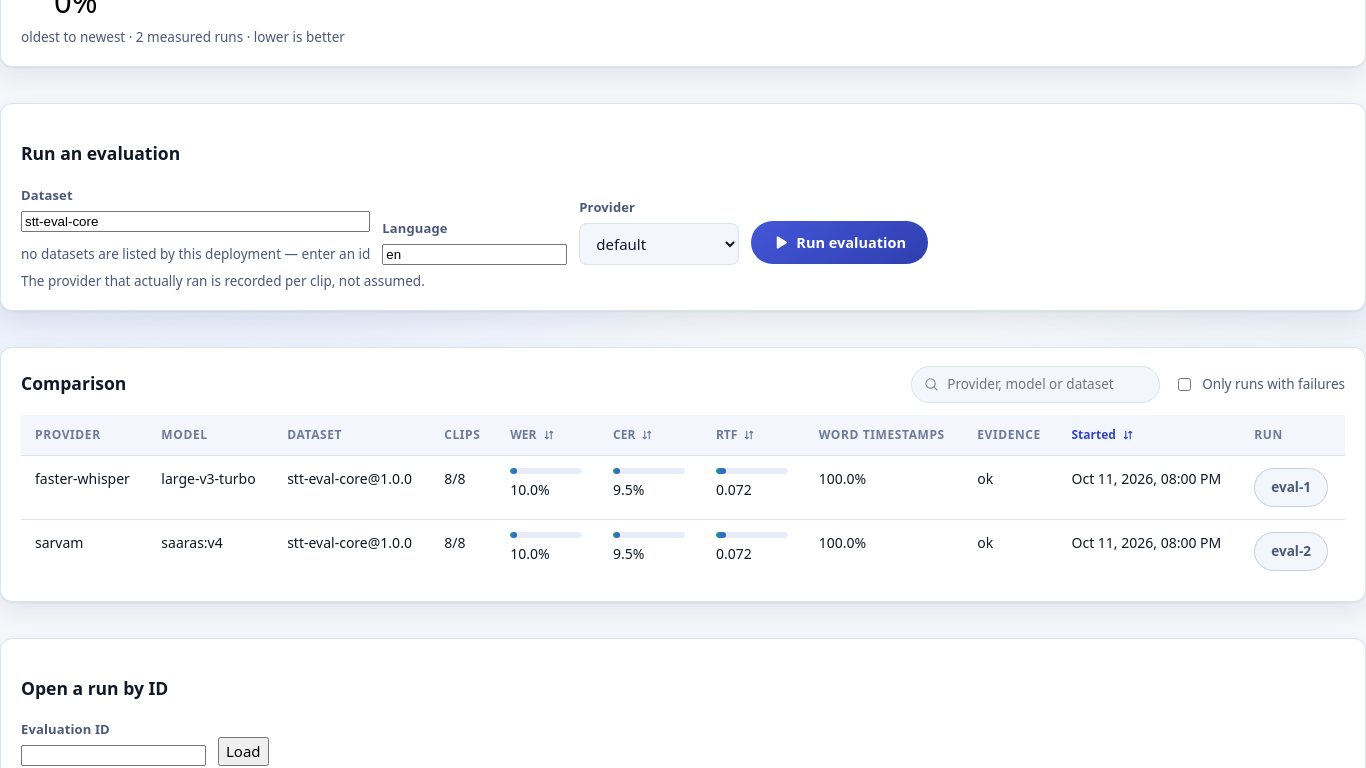
searches across provider, model and dataset
(page scrolled)
Check: the number of rows is 3, box left=21, top=414, right=1345, bottom=456; left=21, top=456, right=1345, bottom=520; left=21, top=520, right=1345, bottom=583
Type "saaras" into the search field named "search" at (1047,384), box left=947, top=374, right=1147, bottom=394
(page scrolled)
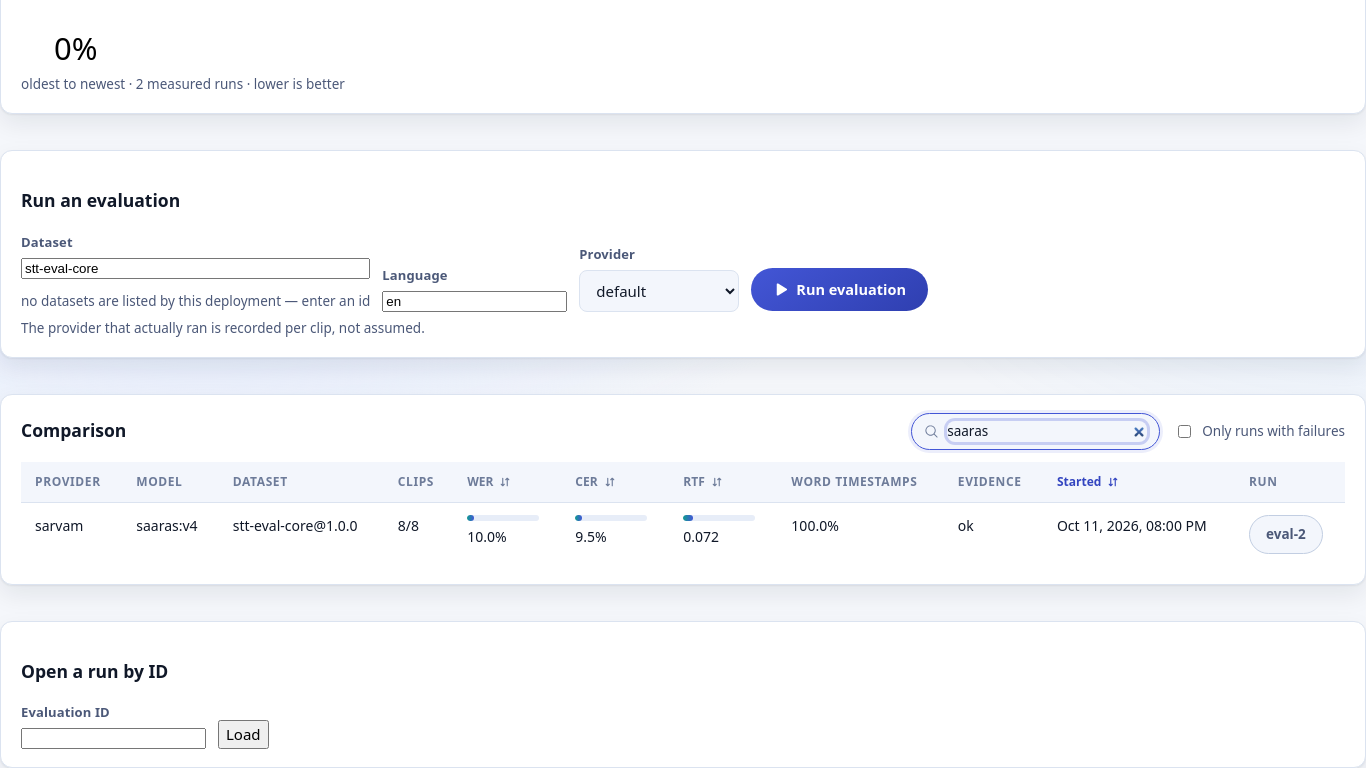
Check: the number of rows is 2, box left=21, top=462, right=1345, bottom=503; left=21, top=503, right=1345, bottom=566
